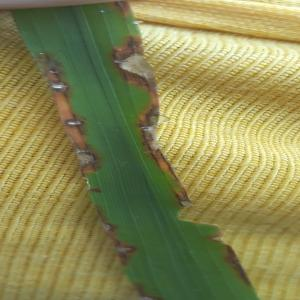1 RiceBlast: (109, 32, 154, 89), (132, 98, 169, 159), (32, 53, 70, 101), (70, 138, 105, 184), (110, 236, 138, 264), (65, 106, 91, 134), (174, 186, 199, 208), (100, 215, 116, 233)
